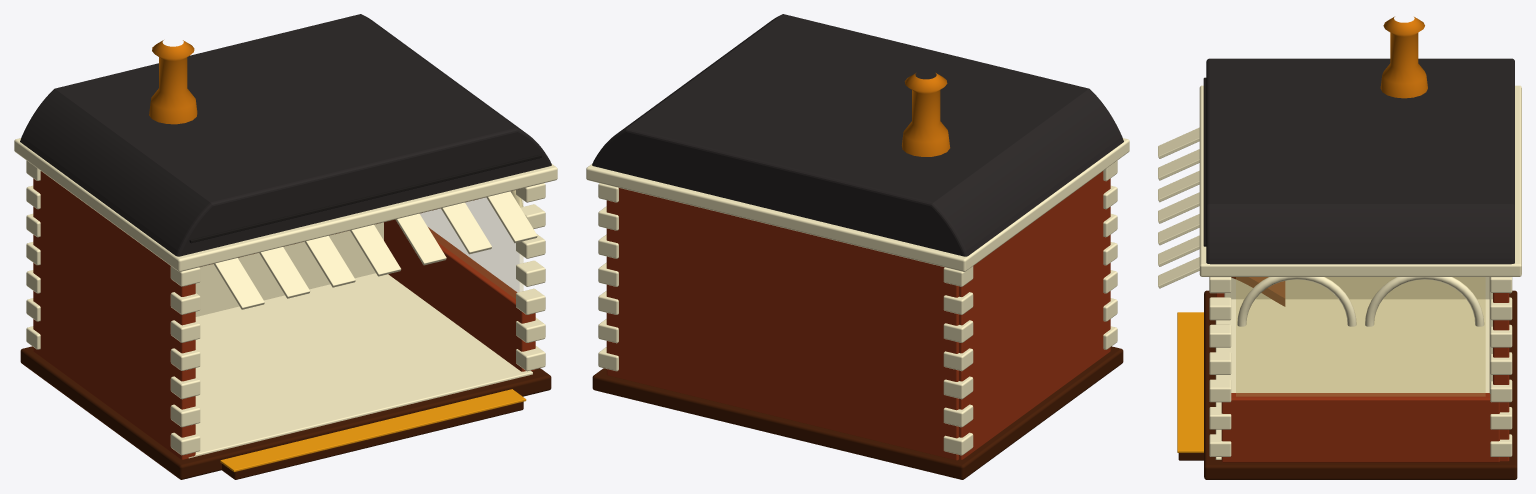
The model's file is booth-coffee.glb.
The picture shows the model from 3 angles, left to right: view 1: azimuth 30°, elevation 25°; view 2: azimuth 150°, elevation 25°; view 3: azimuth 270°, elevation 25°; orthographic projection. The views are drawn at different scales.
Parts seen in each view (by area): view 1: BoothShellCoffee; view 2: BoothShellCoffee; view 3: BoothShellCoffee.
Part boxes in pixels (x1,y1,x2,y2): BoothShellCoffee: (14, 14, 557, 479); BoothShellCoffee: (586, 14, 1129, 479); BoothShellCoffee: (1158, 16, 1521, 479).
Bounding box in the file's own units: 7.35 × 6.3 × 6.27.
